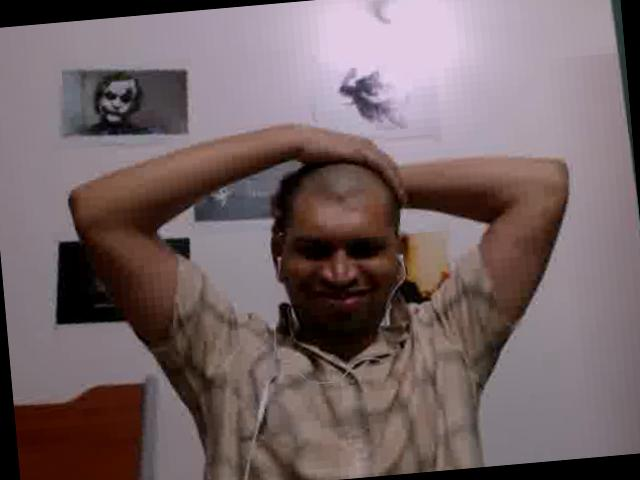bingung: (282, 188, 404, 330)
